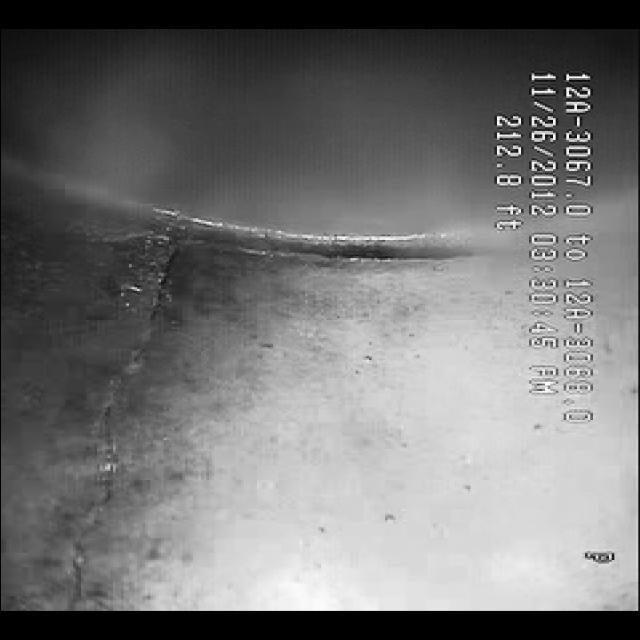Crack: (48, 252, 266, 550)
